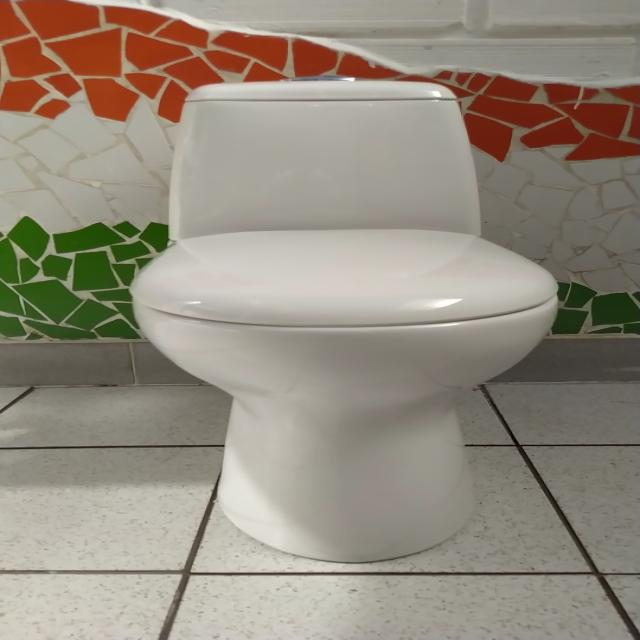toilet: (128, 77, 559, 563)
